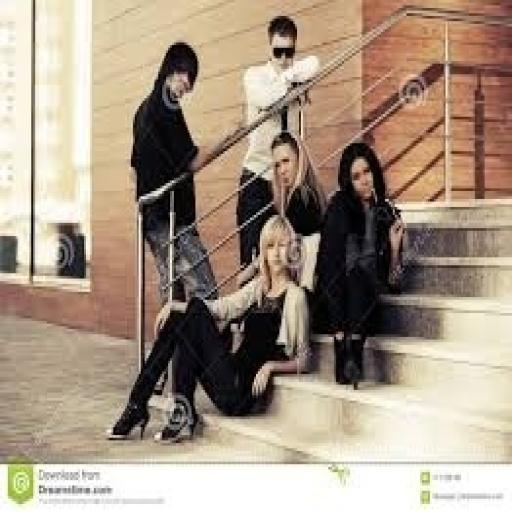sitting: (104, 212, 312, 446), (310, 138, 406, 390)
